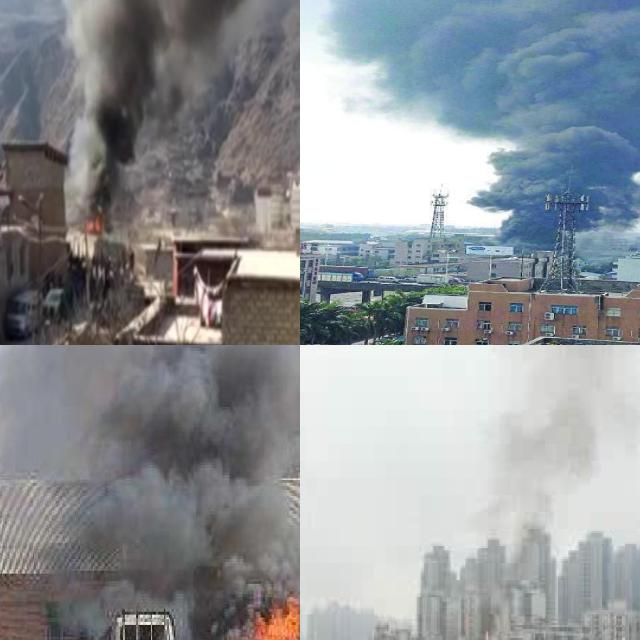fire: (252, 591, 300, 640), (84, 214, 103, 234)
smoke: (0, 345, 300, 640), (312, 0, 640, 239), (65, 0, 255, 215), (490, 345, 640, 522)
